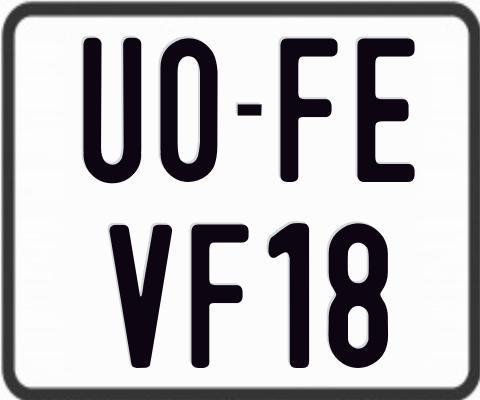0: (160, 35, 220, 180)
1: (266, 222, 307, 368)
8: (327, 222, 388, 371)
E: (356, 36, 417, 180)
F: (280, 38, 340, 187), (188, 222, 250, 366)
U: (80, 35, 144, 180)
V: (109, 223, 172, 368)
